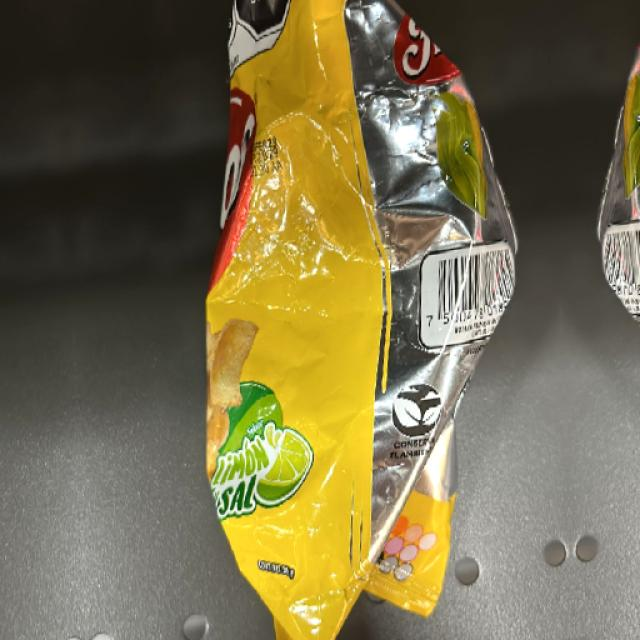fritosLimon: (224, 0, 444, 588)
